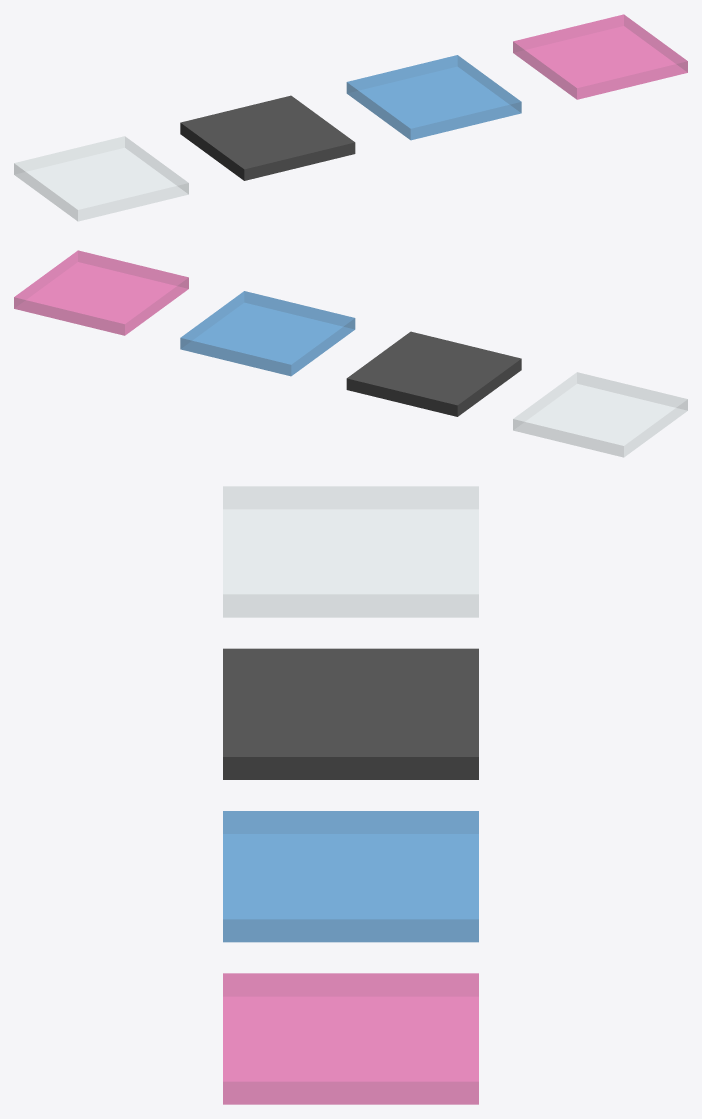
The model's file is board.glb.
3 views of the same model, one above another, from view 1: azimuth 30°, elevation 25°; view 2: azimuth 150°, elevation 25°; view 3: azimuth 270°, elevation 25° (orthographic). The views are drawn at different scales.
Parts seen in each view (by area): view 1: Substrate_Layer_1, Substrate_Layer_2, Substrate_Layer_0, Substrate_Layer_3; view 2: Substrate_Layer_1, Substrate_Layer_2, Substrate_Layer_0, Substrate_Layer_3; view 3: Substrate_Layer_0, Substrate_Layer_1, Substrate_Layer_2, Substrate_Layer_3.
Boxes of the visible parts, x1,y1,x2,y2 form: Substrate_Layer_1: (180, 95, 355, 180); Substrate_Layer_2: (346, 55, 521, 140); Substrate_Layer_0: (14, 136, 188, 221); Substrate_Layer_3: (513, 14, 687, 99); Substrate_Layer_1: (346, 331, 521, 416); Substrate_Layer_2: (180, 291, 355, 376); Substrate_Layer_0: (513, 372, 687, 457); Substrate_Layer_3: (14, 250, 188, 335); Substrate_Layer_0: (223, 486, 478, 617); Substrate_Layer_1: (223, 648, 478, 779); Substrate_Layer_2: (223, 811, 478, 942); Substrate_Layer_3: (223, 973, 478, 1104).
Size of the model in its own units: 0.055 by 0.001 by 0.01.
